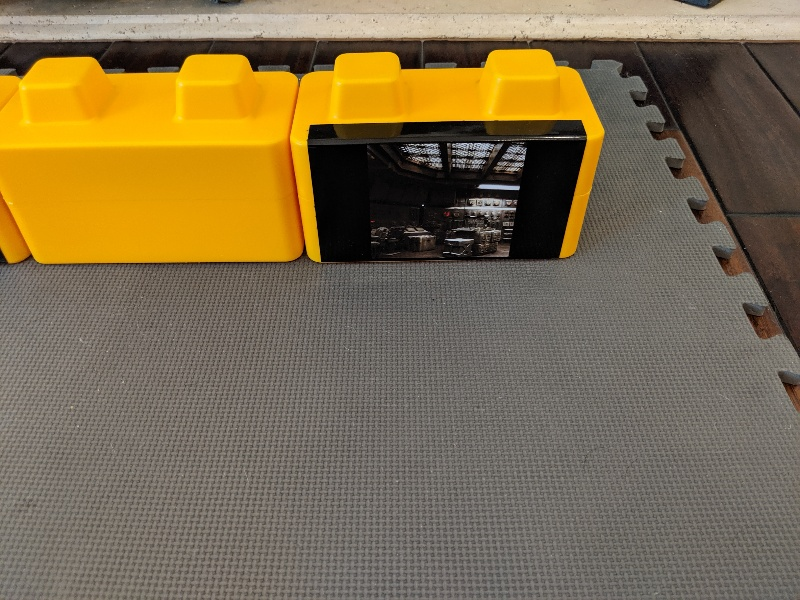Skystone: (295, 110, 596, 273)
